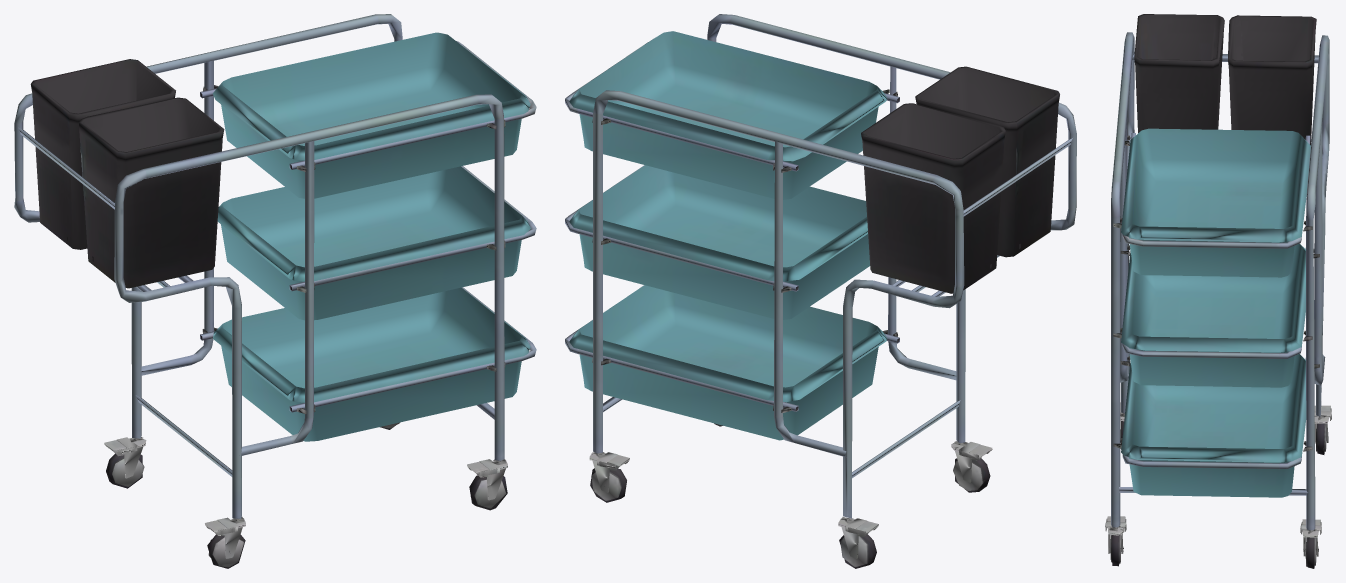
The model's file is med-cart.lod0.glb.
3 renders of one model, left to right at view 1: azimuth 30°, elevation 25°; view 2: azimuth 150°, elevation 25°; view 3: azimuth 270°, elevation 25°, orthographic. The views are drawn at different scales.
Parts seen in each view (by area): view 1: Armature_low_lambert1_0; view 2: Armature_low_lambert1_0; view 3: Armature_low_lambert1_0.
Part boxes in pixels (x1,y1,x2,y2): Armature_low_lambert1_0: [14, 14, 536, 568]; Armature_low_lambert1_0: [565, 14, 1076, 568]; Armature_low_lambert1_0: [1105, 14, 1331, 568].
Size of the model in its own units: 0.9888 by 0.9491 by 0.4966.
1 material, 1 textured.
